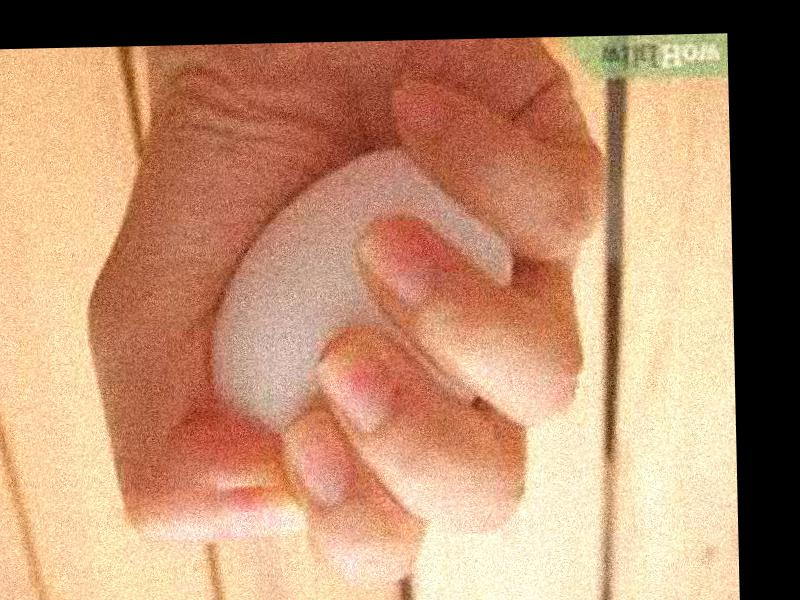Eggs: (203, 145, 518, 434)
